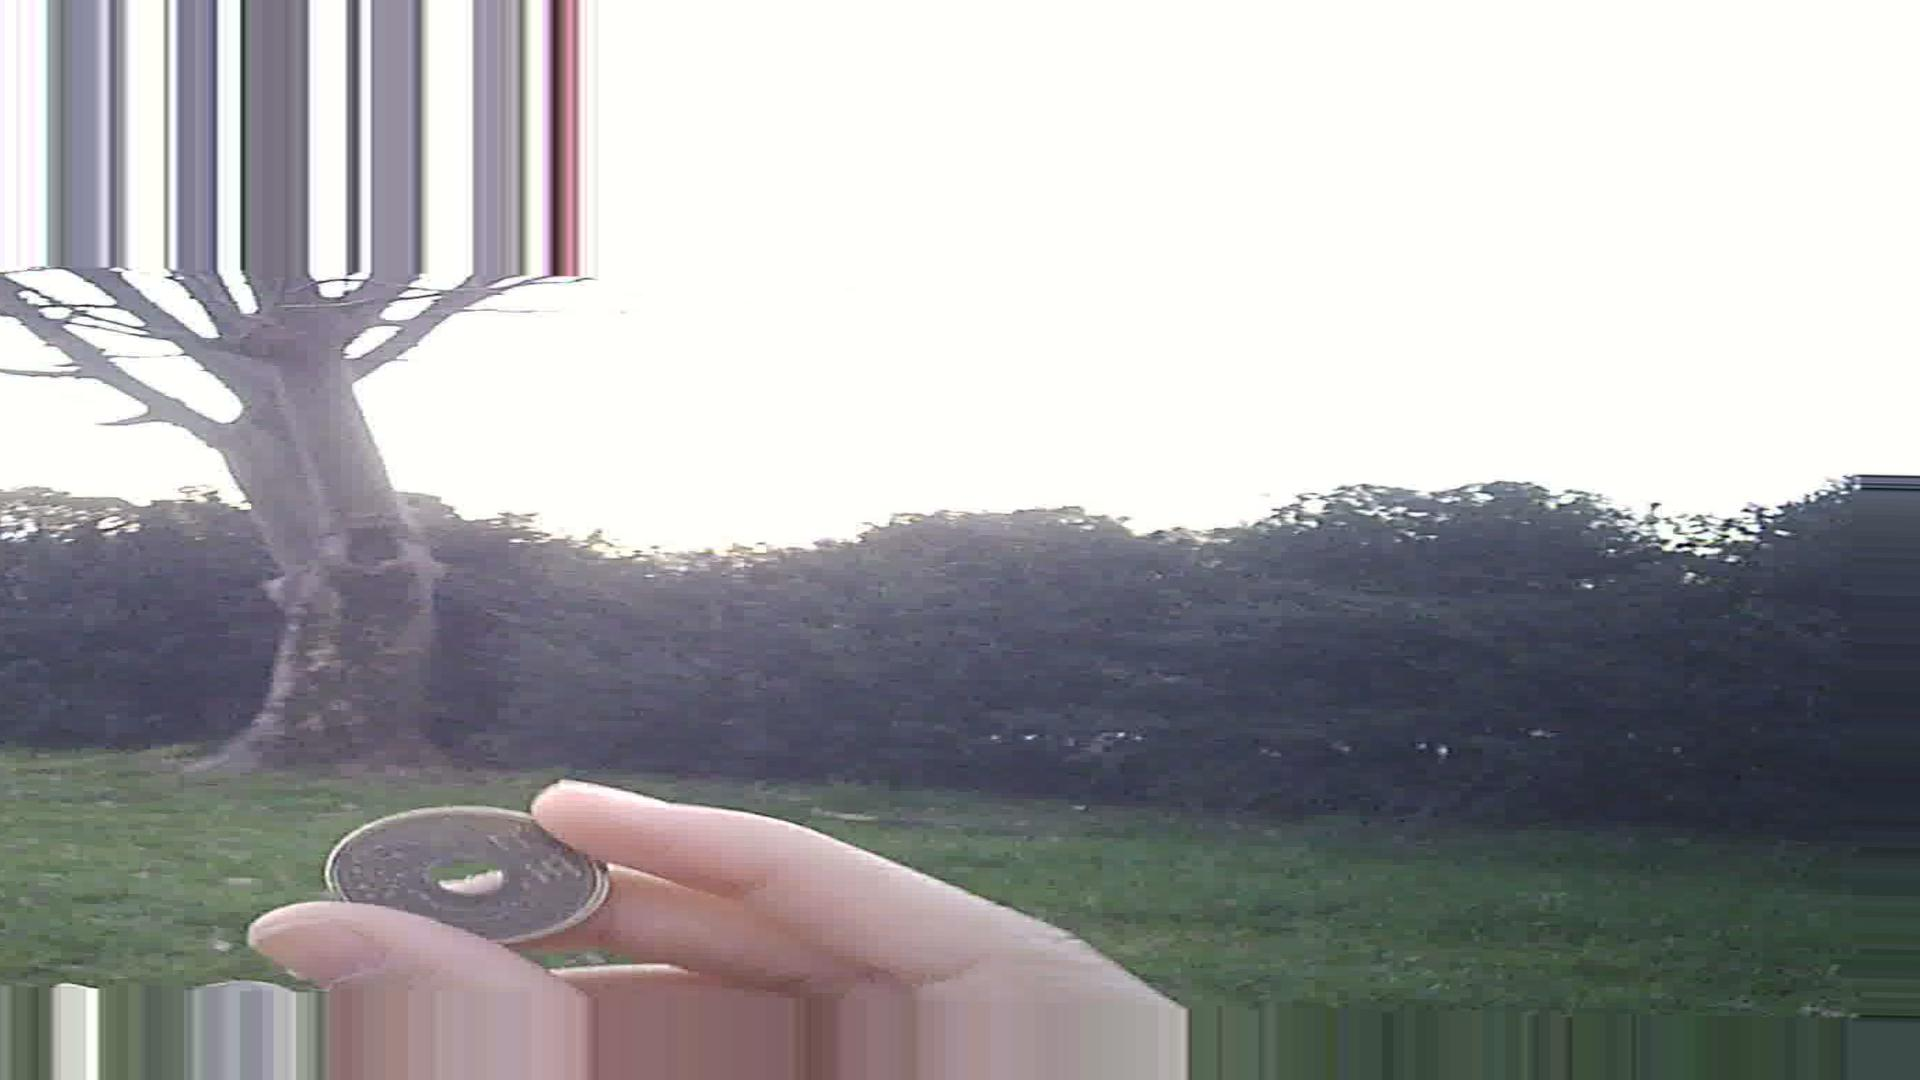5 Yen: (309, 800, 626, 957)
